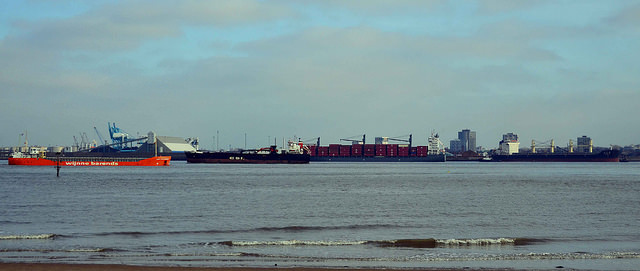bulk carrier: (492, 136, 622, 162)
container_ship: (312, 135, 451, 162)
tanker: (4, 140, 176, 168), (185, 138, 310, 167)
